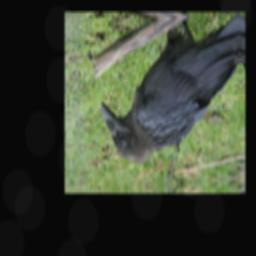Crow: (96, 13, 244, 166)
